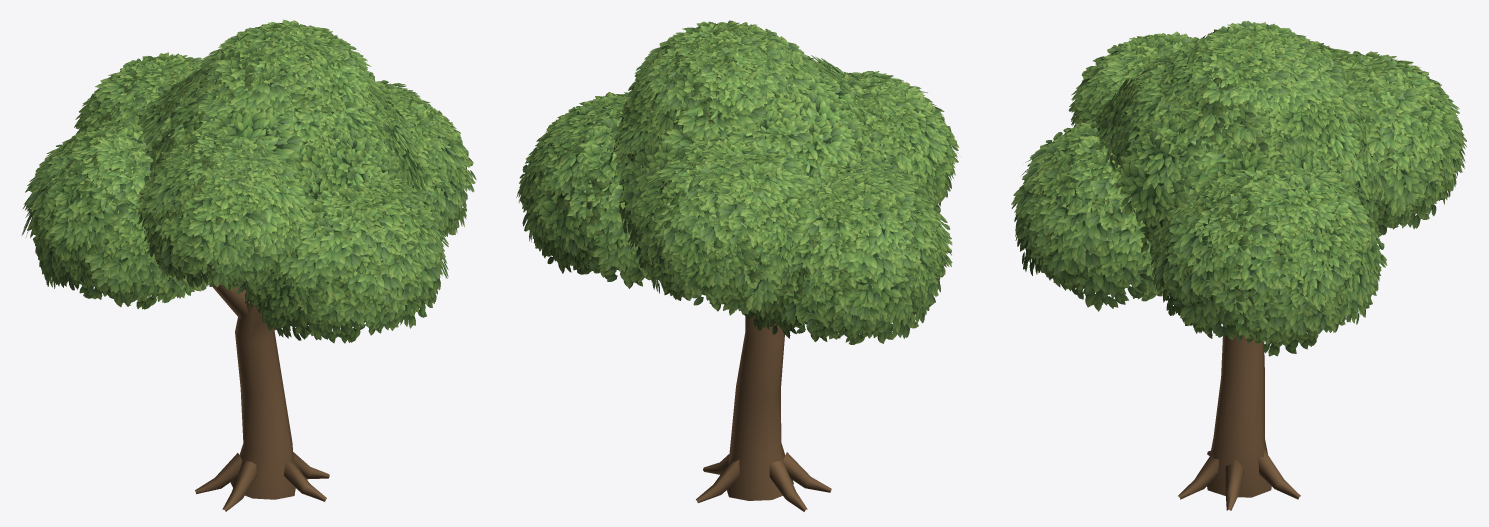
The model's file is tree_big.glb.
3 renders of one model, left to right at view 1: azimuth 30°, elevation 25°; view 2: azimuth 150°, elevation 25°; view 3: azimuth 270°, elevation 25°, orthographic. The views are drawn at different scales.
Parts seen in each view (by area): view 1: tree_big_mesh; view 2: tree_big_mesh; view 3: tree_big_mesh.
Boxes of the visible parts, x1=… form: tree_big_mesh: x1=22, y1=19, x2=476, y2=511; tree_big_mesh: x1=516, y1=20, x2=959, y2=511; tree_big_mesh: x1=1011, y1=21, x2=1466, y2=510.
Size of the model in its own units: 6.28 by 6.47 by 5.91.
Materials: 2 (1 with a texture image).
